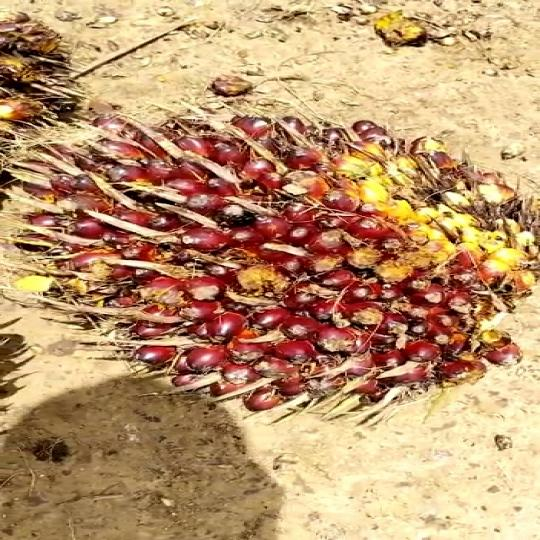kurang masak: (25, 105, 540, 420)
